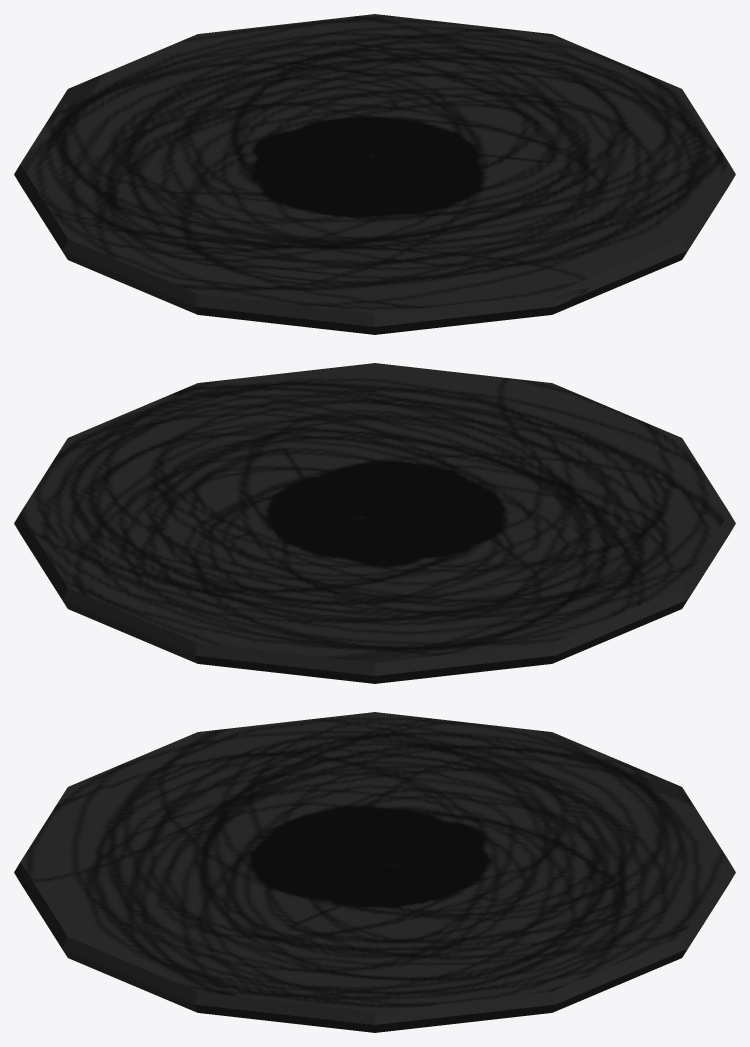
Rendered from record.glb.
The picture shows the model from 3 angles, top to bottom: view 1: azimuth 30°, elevation 25°; view 2: azimuth 150°, elevation 25°; view 3: azimuth 270°, elevation 25°; orthographic projection.
Parts seen in each view (by area): view 1: Record; view 2: Record; view 3: Record.
Part boxes in pixels (x1=…): Record: x1=14, y1=14, x2=735, y2=334; Record: x1=14, y1=363, x2=735, y2=683; Record: x1=14, y1=712, x2=735, y2=1032.
Bounding box in the file's own units: 0.7735 × 0.025 × 0.7735.
Materials: 1 (1 with a texture image).
